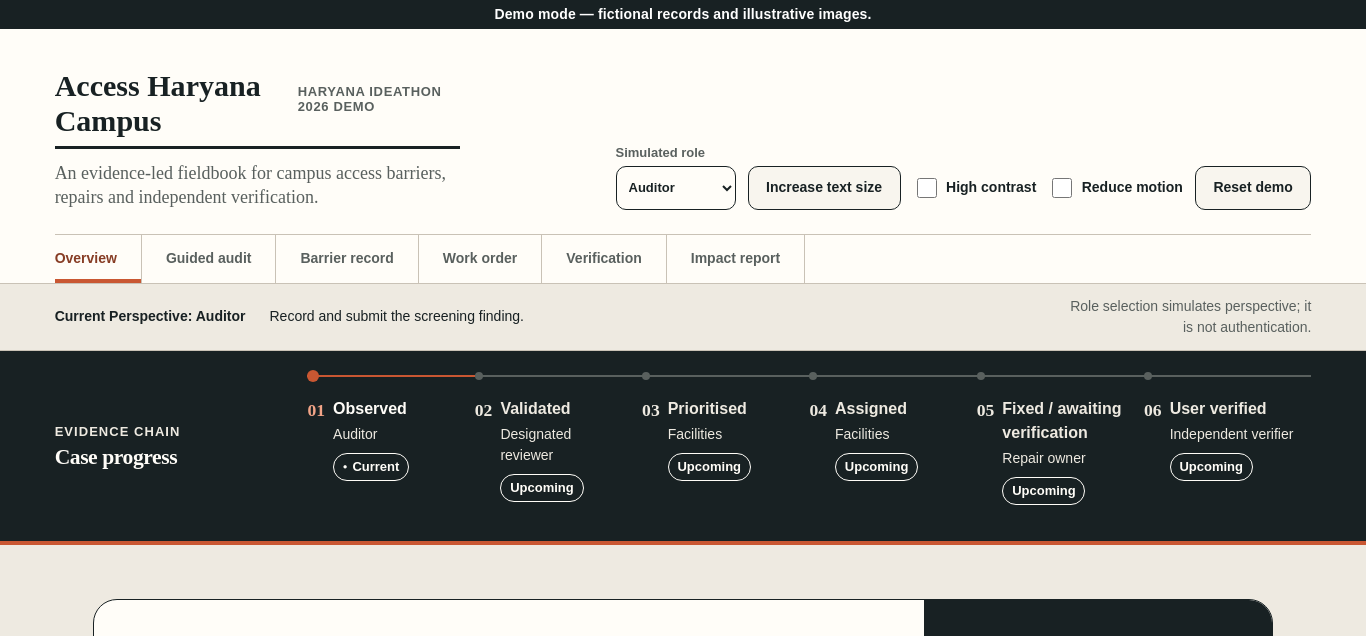
Test: accessible application shell › primary navigation uses valid entity routes without reloading the document
Click the link "Barrier record" at (348, 259), box [276,235,419,283]
(page scrolled)
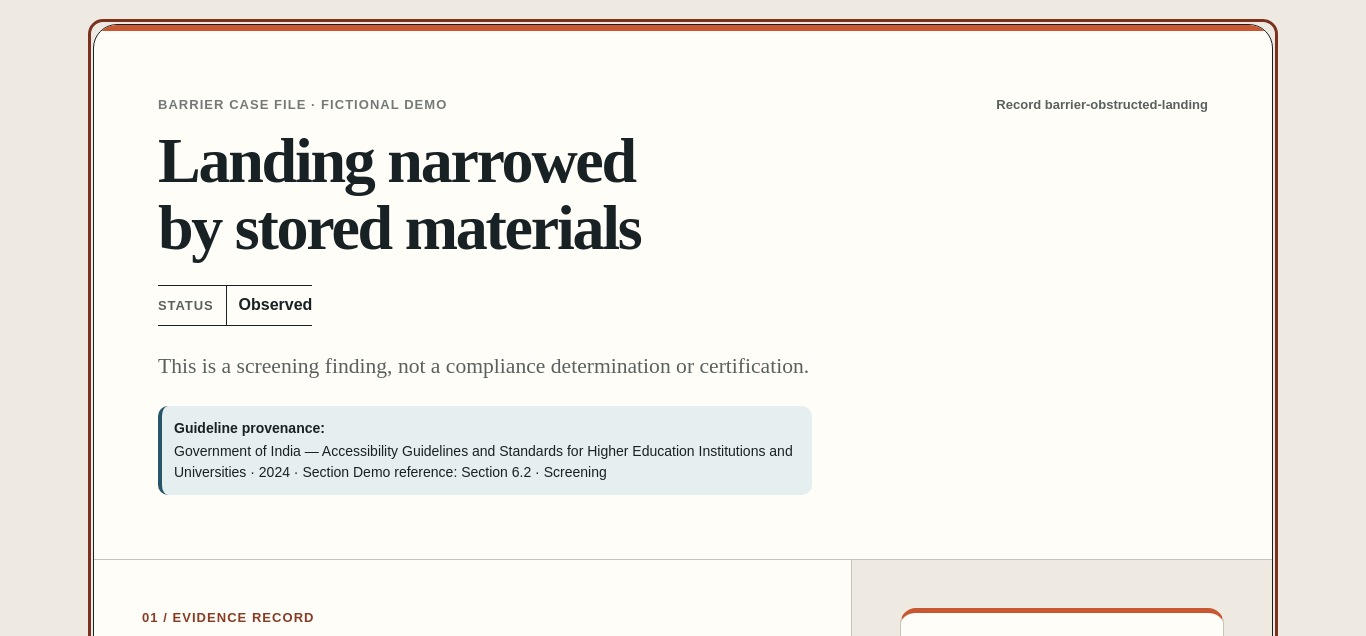
expect the heading "Landing narrowed by stored materials" is shown: met, box [158,127,670,261]
